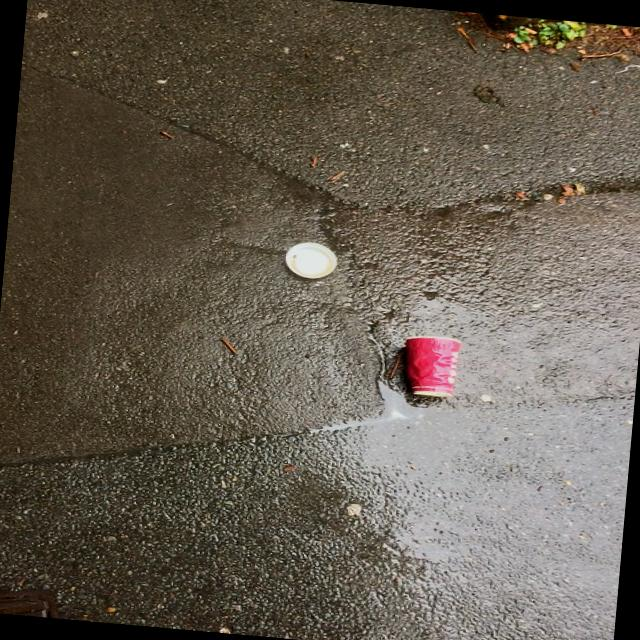Recycle: (402, 333, 462, 396), (282, 236, 341, 282)
